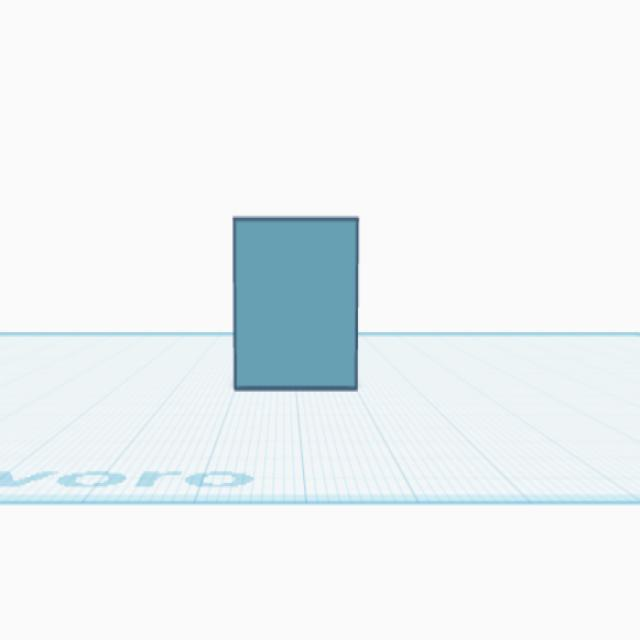cube: (228, 210, 364, 396)
